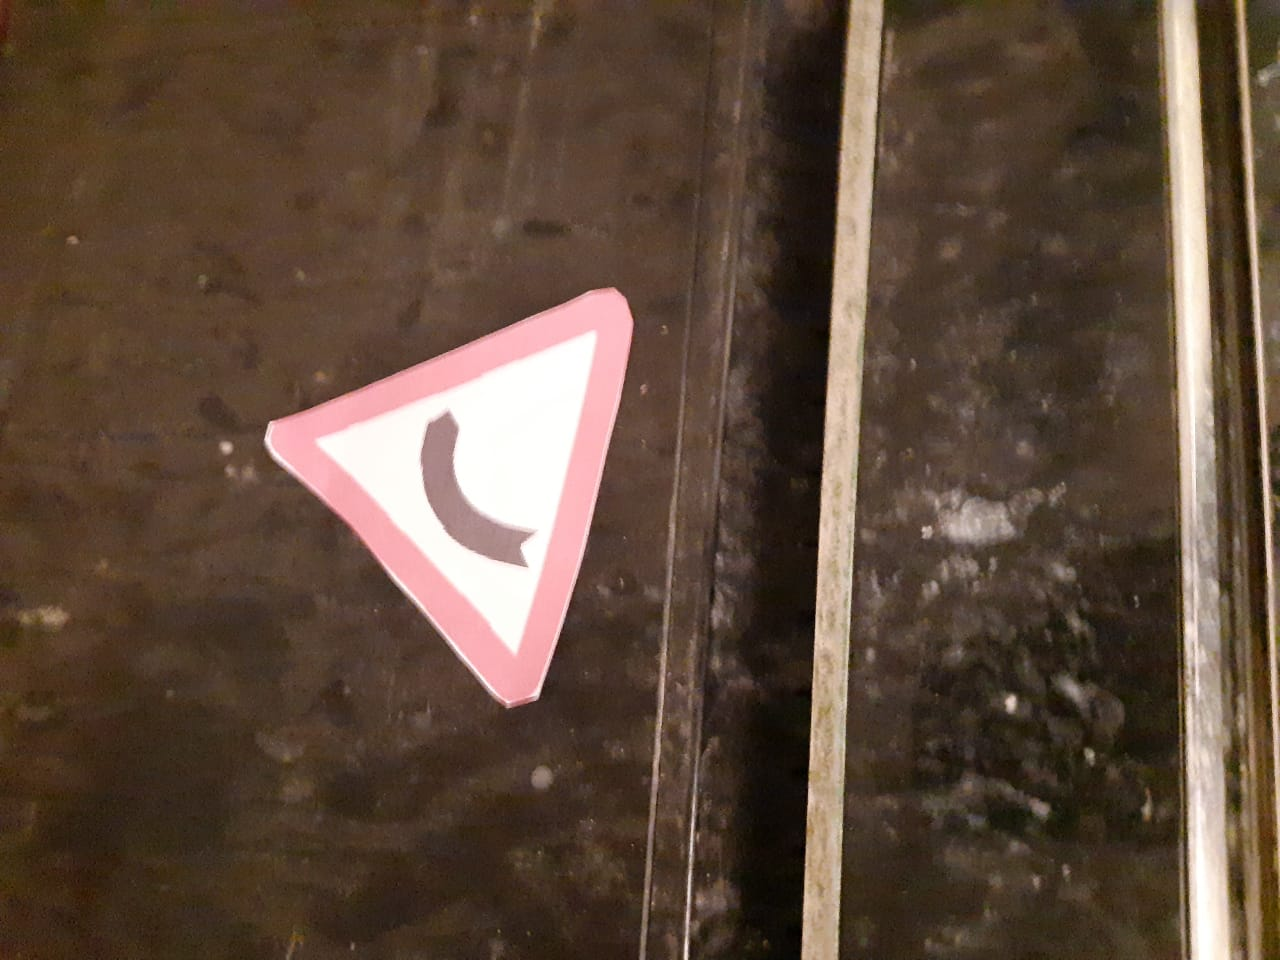RIGHT CURVE: (266, 295, 636, 725)
